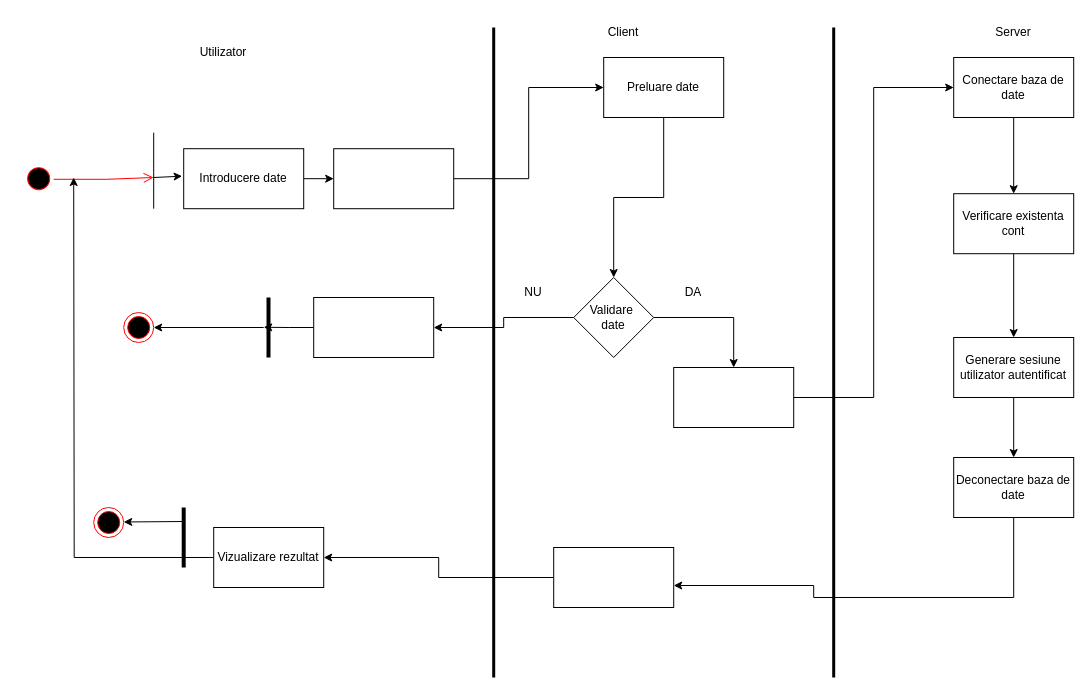
The diagram is 1092 pixels wide and 697 high, and some of its shapes have lost their labels. The shapes that lost their labels are listed below. From the top down, each one's box as (x1, y1, x2, y2) in pixels, then its label:
(333, 148, 454, 209): Apasare buton "Autentificare"
(313, 296, 434, 358): Vizualizare mesaj eroare
(673, 366, 794, 428): Formare cerere autentificare
(553, 546, 674, 608): Preluare raspuns
